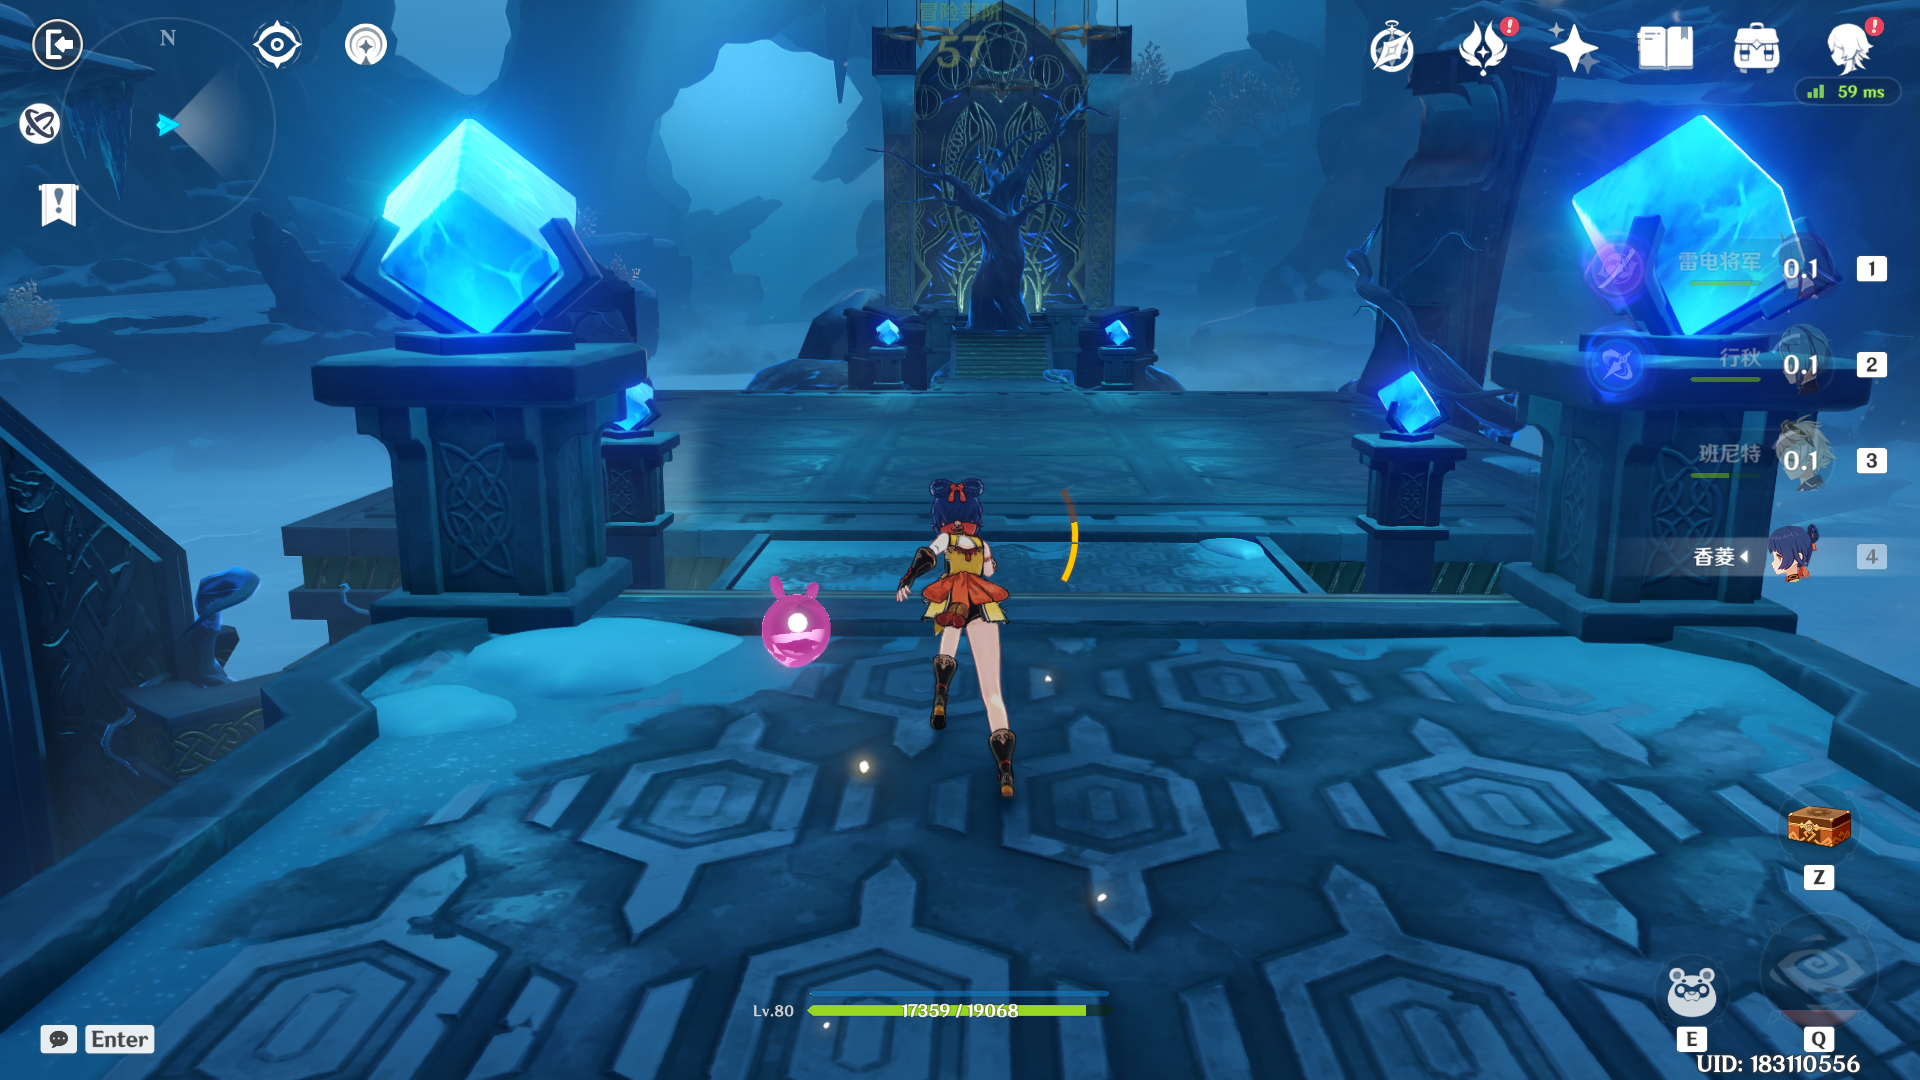character: (872, 464, 1095, 804)
